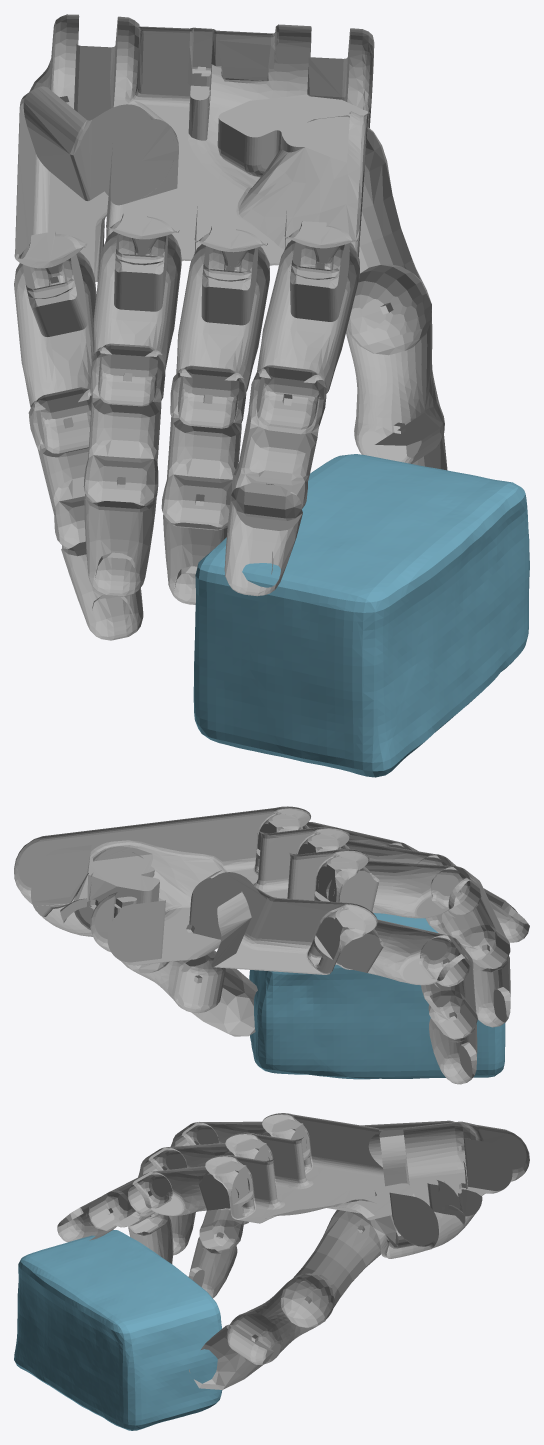
Rendered from ugg_6.glb.
The picture shows the model from 3 angles, top to bottom: view 1: azimuth 30°, elevation 25°; view 2: azimuth 150°, elevation 25°; view 3: azimuth 270°, elevation 25°; orthographic projection. The views are drawn at different scales.
Visible parts, largest first — view 1: world; view 2: world; view 3: world.
Boxes of the visible parts, <box> form: world: <box>14,14,529,777</box>; world: <box>14,806,529,1084</box>; world: <box>14,1113,529,1430</box>.
Size of the model in its own units: 0.9303 by 0.7883 by 1.4.
